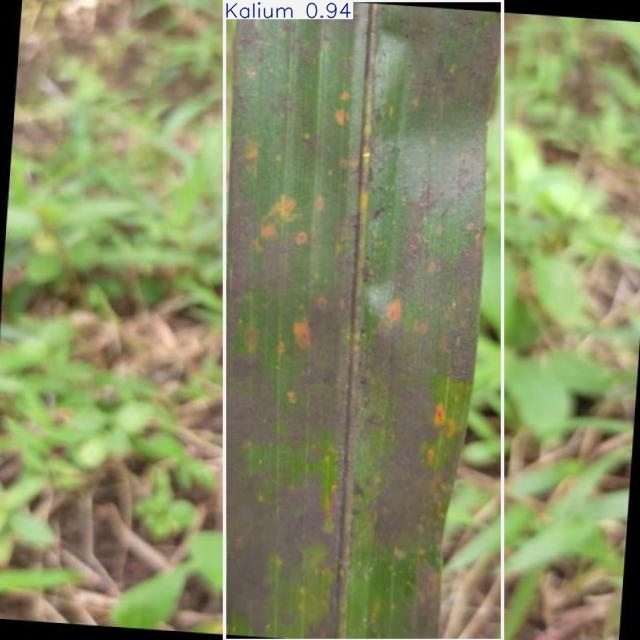Kalium: (224, 0, 503, 640)
